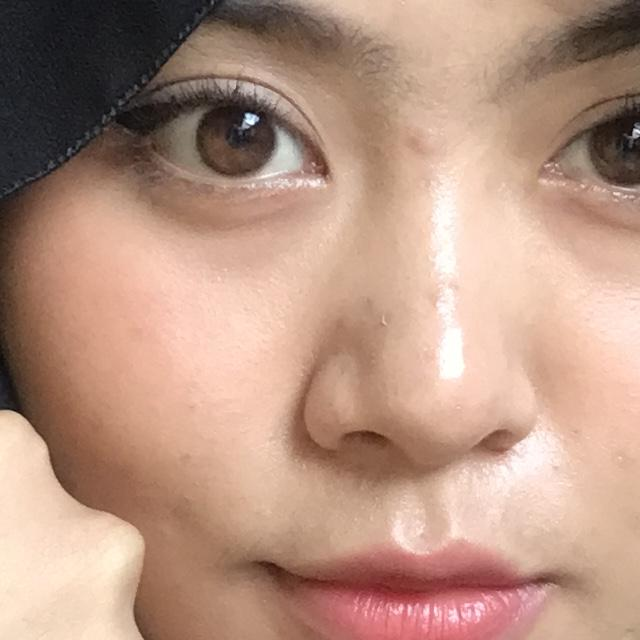telpon: (0, 46, 640, 640)
